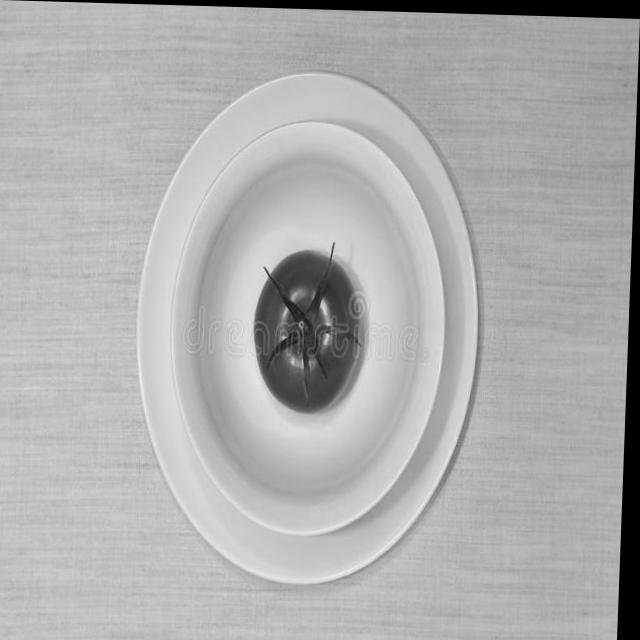kirmizi: (250, 248, 381, 413)
